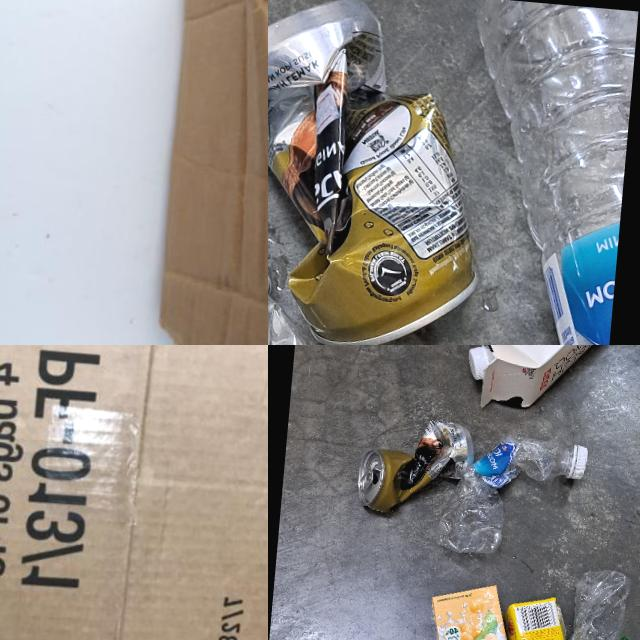aba de lata: (359, 468, 373, 492)
caixinha: (475, 345, 640, 421), (415, 579, 542, 640), (489, 592, 611, 640)
garrafa plástica: (432, 0, 638, 345), (434, 426, 572, 561), (558, 566, 640, 640)
lata: (268, 0, 507, 345), (354, 413, 476, 520)
papelão: (0, 345, 268, 640), (149, 0, 268, 345)
tampa plástica: (572, 445, 590, 481)
